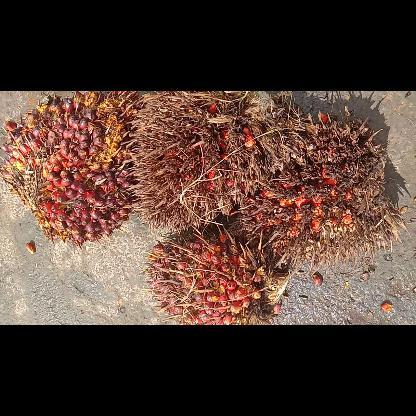TBS masak: (0, 91, 138, 251), (142, 222, 290, 324)
Terlalu masak: (228, 105, 408, 279), (124, 90, 292, 233)
